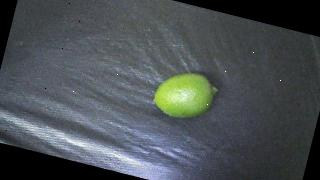LOCAL: (150, 65, 220, 126)
